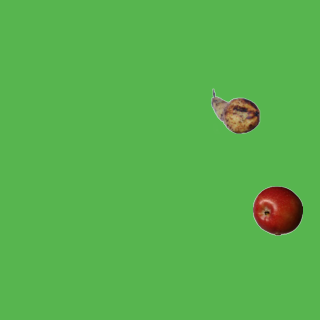Apple Braeburn: (252, 185, 302, 235)
Pear Abate: (210, 86, 260, 136)
